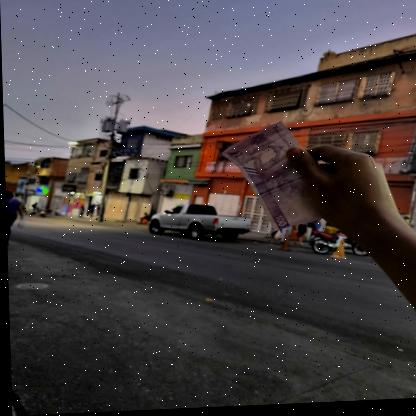one_hundred-back-vef: (219, 120, 321, 236)
